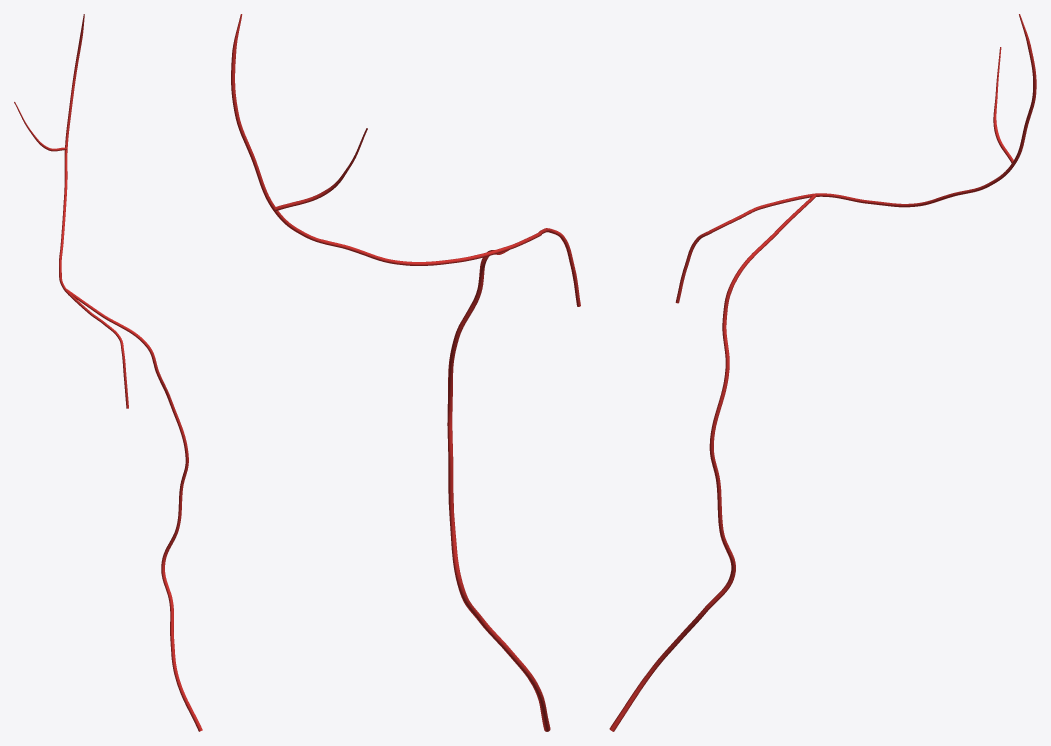
File: circulatorio-vertebral-vein-r.glb
3 renders of one model, left to right at view 1: azimuth 30°, elevation 25°; view 2: azimuth 150°, elevation 25°; view 3: azimuth 270°, elevation 25°, orthographic. The views are drawn at different scales.
Parts seen in each view (by area): view 1: Vertebral vein.r, Occipital vein.r; view 2: Occipital vein.r, Vertebral vein.r; view 3: Vertebral vein.r, Occipital vein.r.
Boxes of the visible parts, x1,y1,x2,y2 form: Vertebral vein.r: (67, 289, 202, 731); Occipital vein.r: (14, 14, 128, 408); Occipital vein.r: (231, 14, 580, 306); Vertebral vein.r: (447, 250, 550, 731); Vertebral vein.r: (609, 194, 816, 731); Occipital vein.r: (675, 14, 1036, 303).
Size of the model in its own units: 0.043 by 0.234 by 0.1216.
